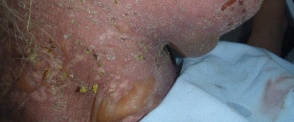SJS-TEN: (0, 14, 175, 122)
